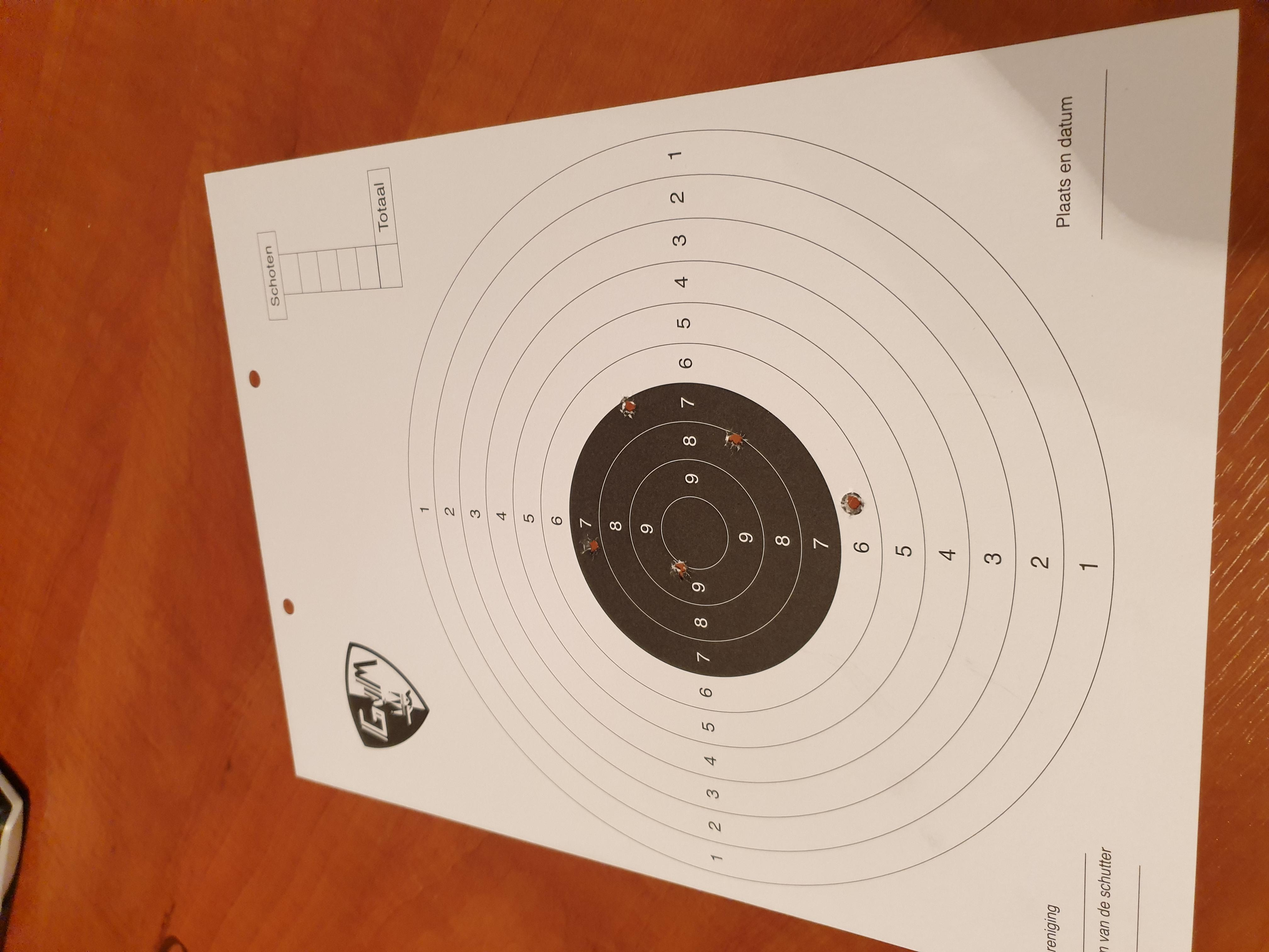hole: (579, 630, 615, 649), (664, 543, 701, 561), (521, 435, 558, 452), (492, 502, 526, 518), (711, 464, 742, 480)
